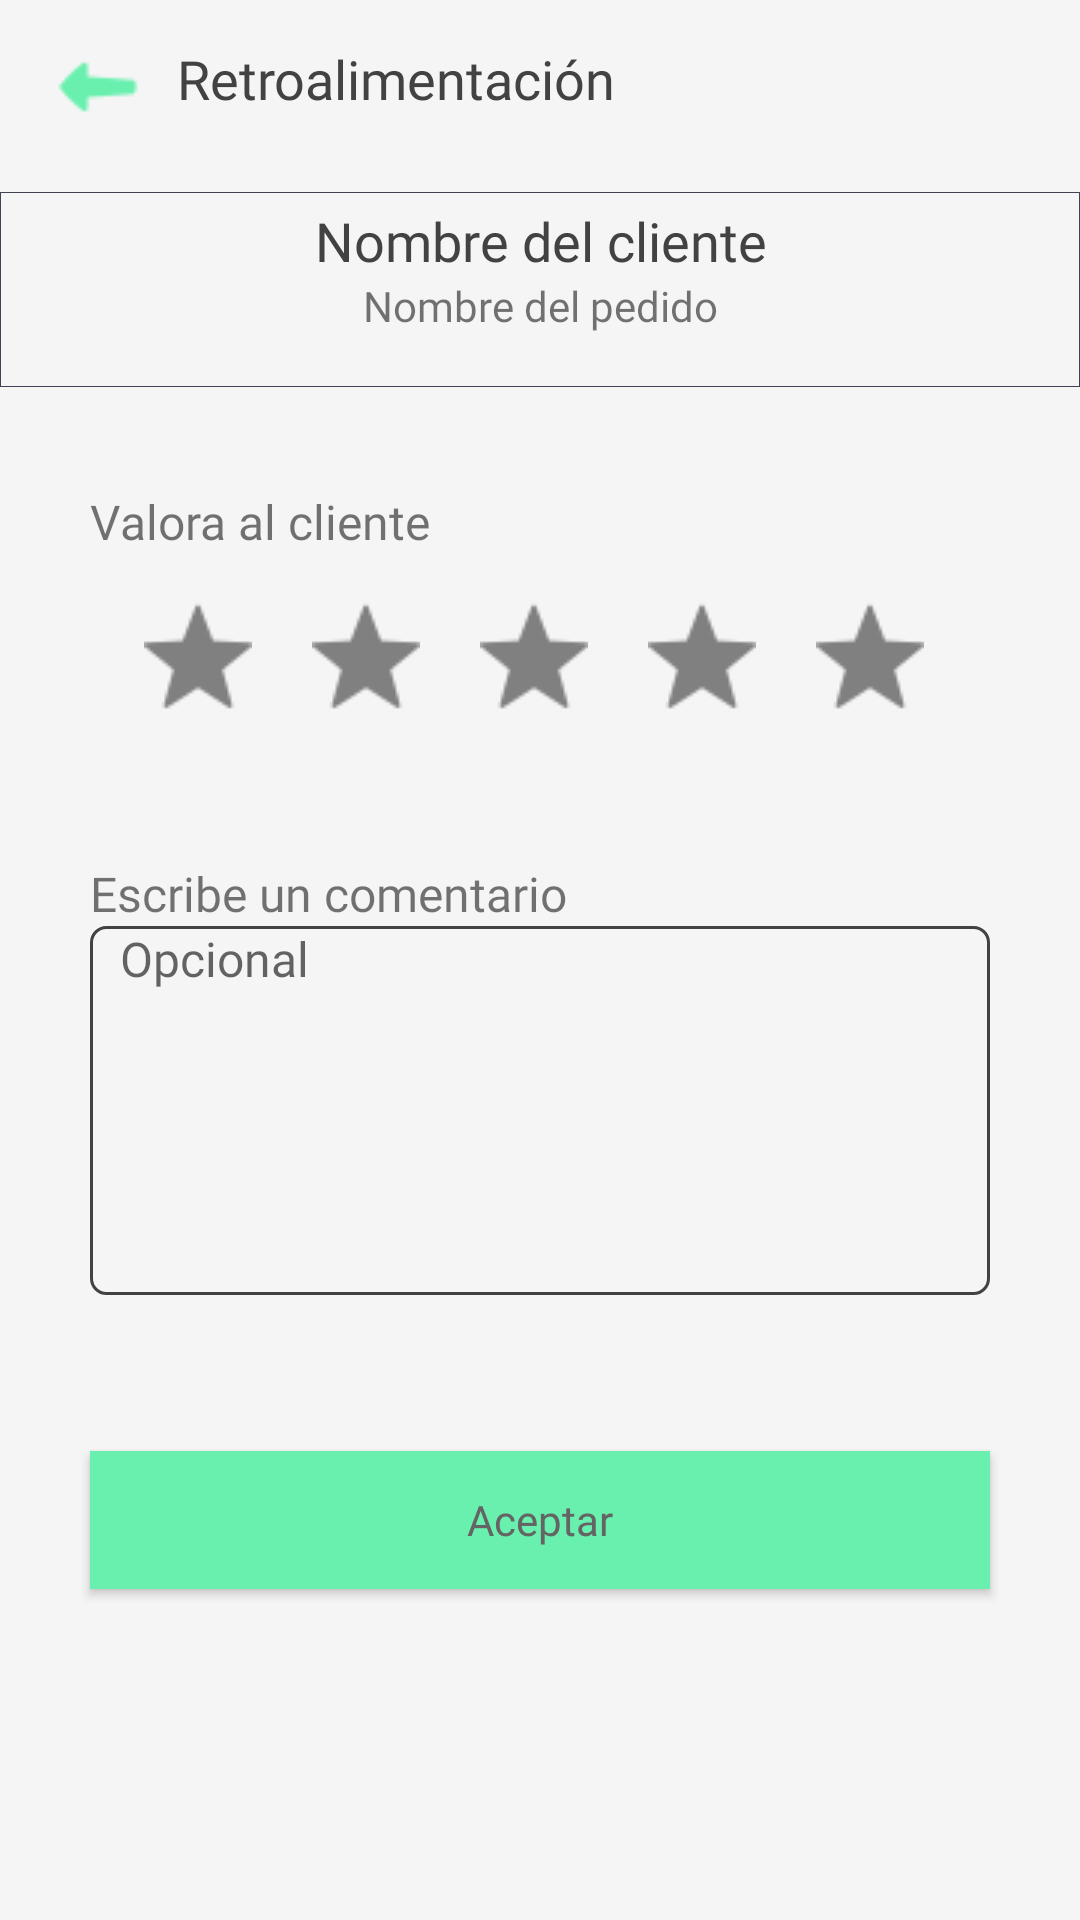

Named icons in this screenshot (1080w x 1920h) and their bounding boxes, [x1,y1,x2,y2]:
back: [59,62,138,112]
star: [144,605,252,709], [312,605,420,709], [480,605,588,709], [648,605,756,709], [816,605,924,709]
